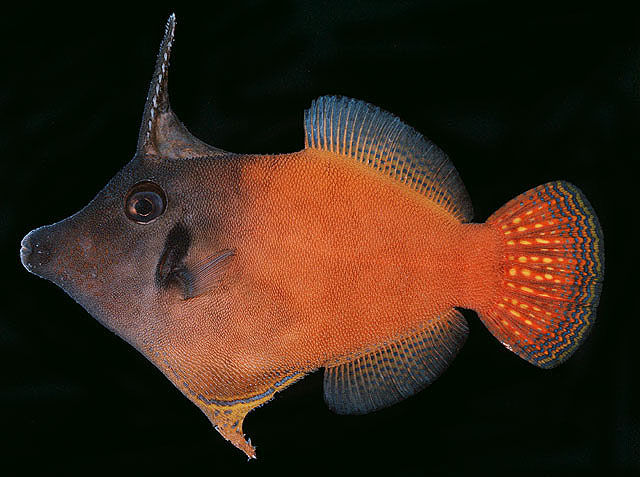fish: (19, 14, 606, 460)
